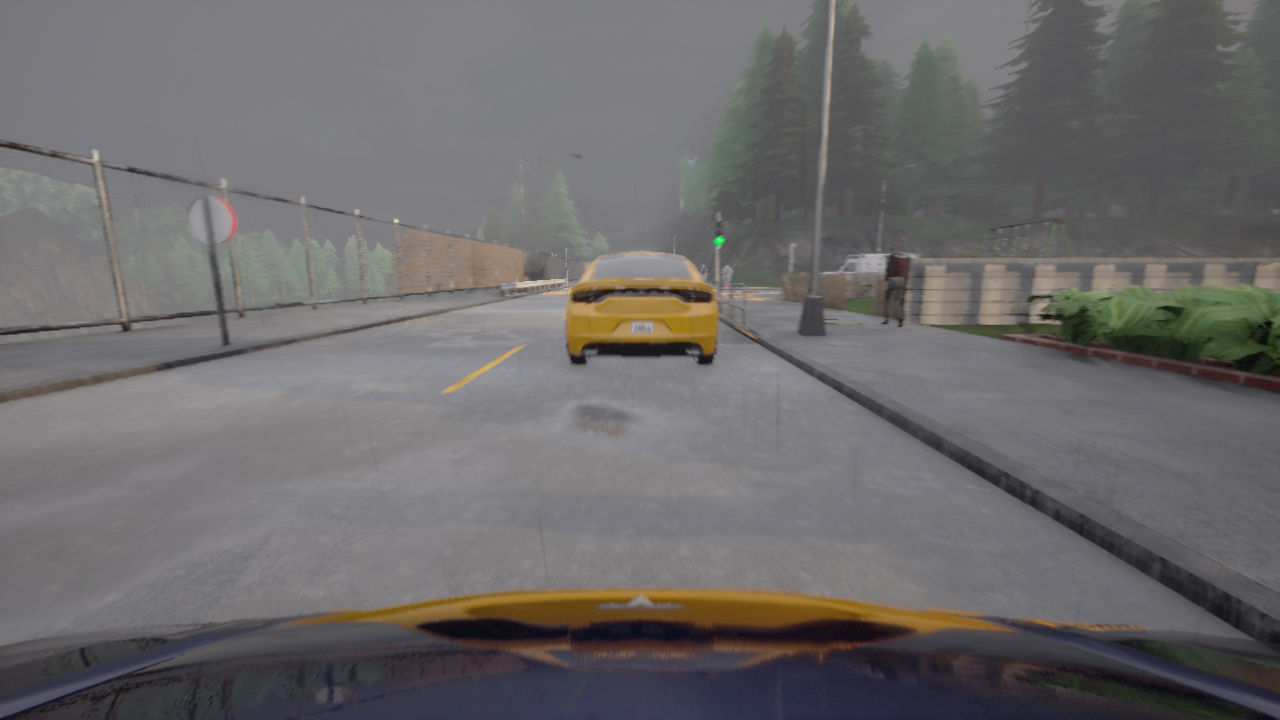cyclist: (0, 588, 1279, 719), (565, 249, 717, 365), (819, 254, 921, 287)
pedestrian: (880, 241, 909, 327), (722, 264, 731, 290), (700, 265, 706, 280)
